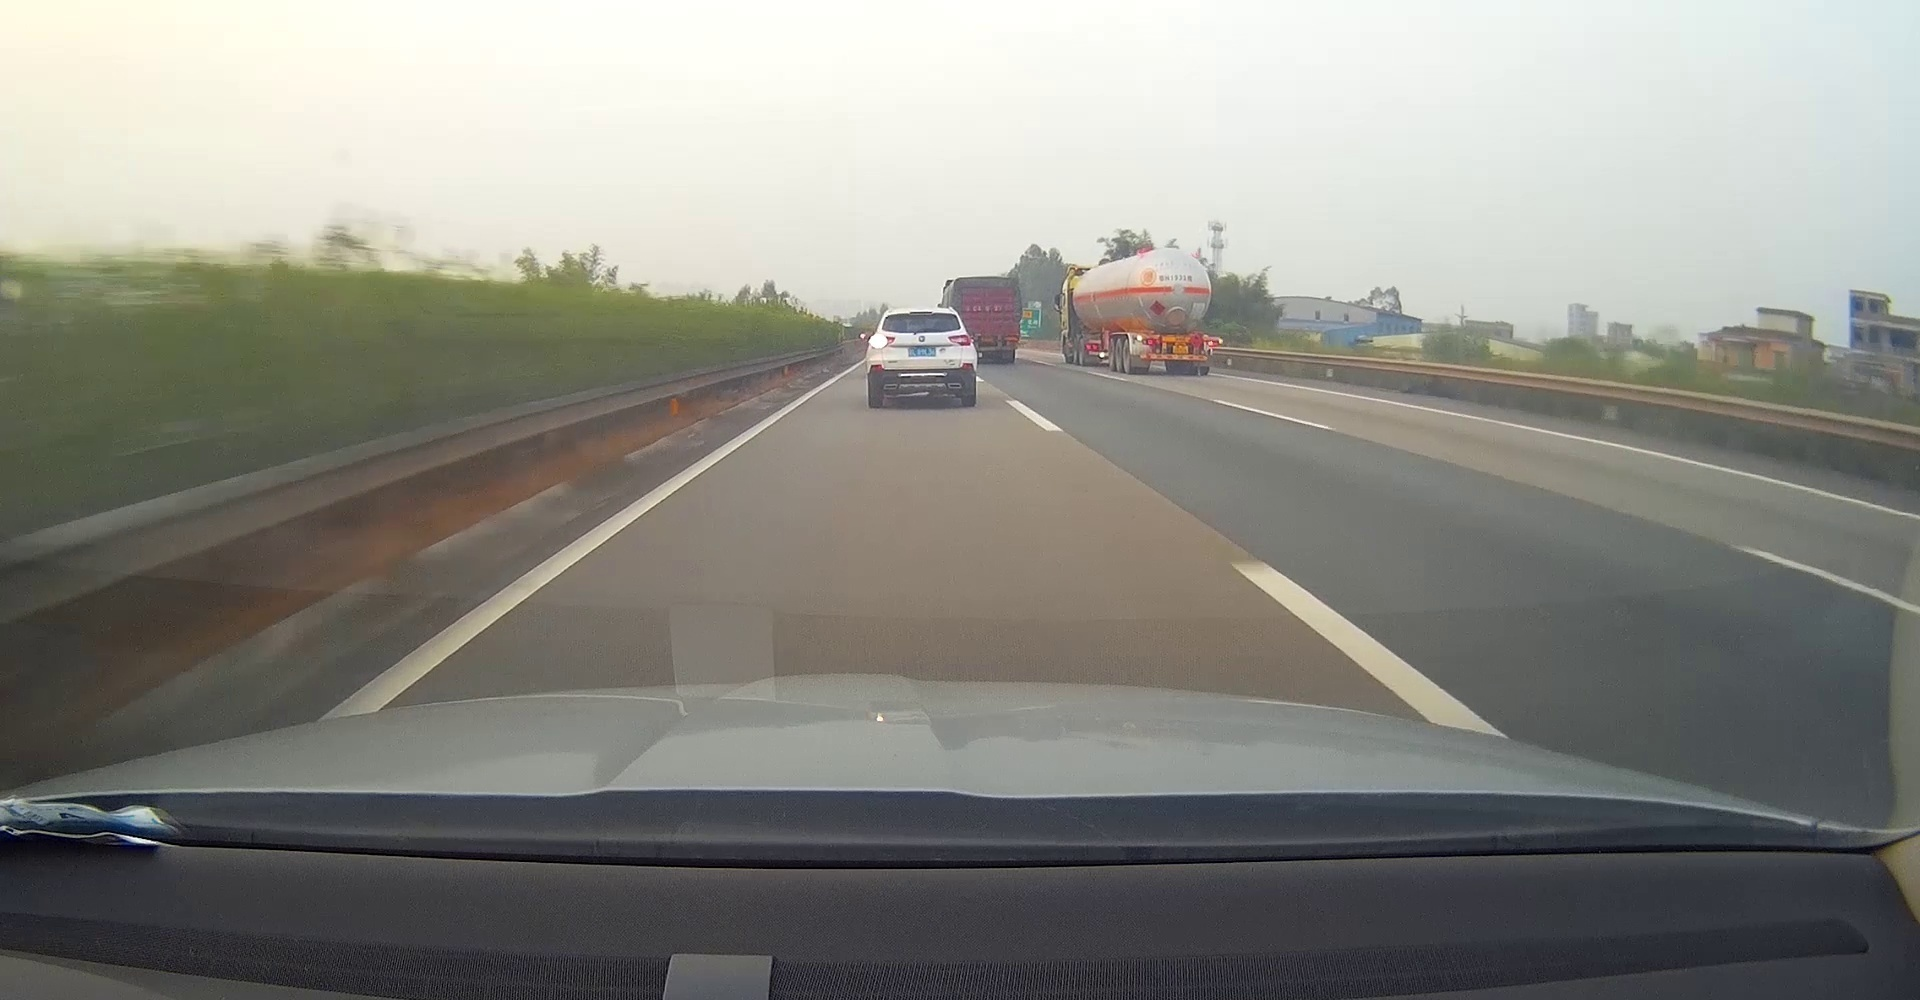L_light: (870, 335, 895, 345), (1143, 339, 1156, 345)
R_light: (947, 334, 971, 346), (1208, 341, 1219, 346)
T_light: (910, 312, 932, 315), (1176, 338, 1189, 339)
day-left: (866, 308, 977, 407)
day-no: (1137, 335, 1223, 374)
